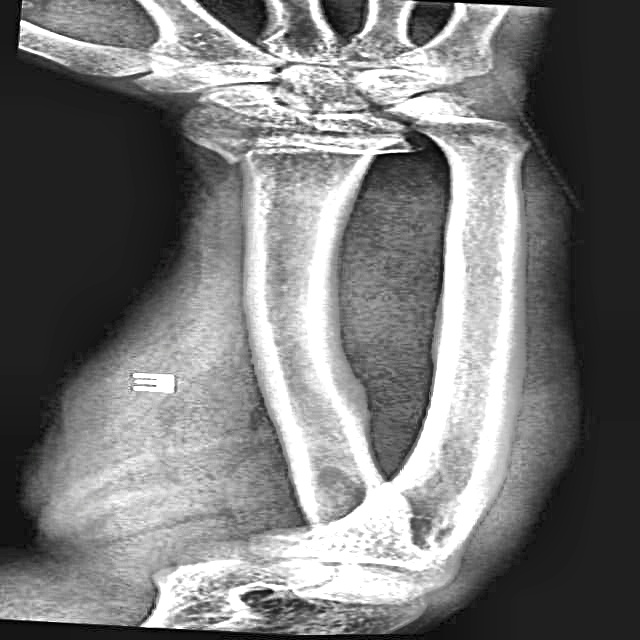Healthy: (188, 180, 578, 516)
